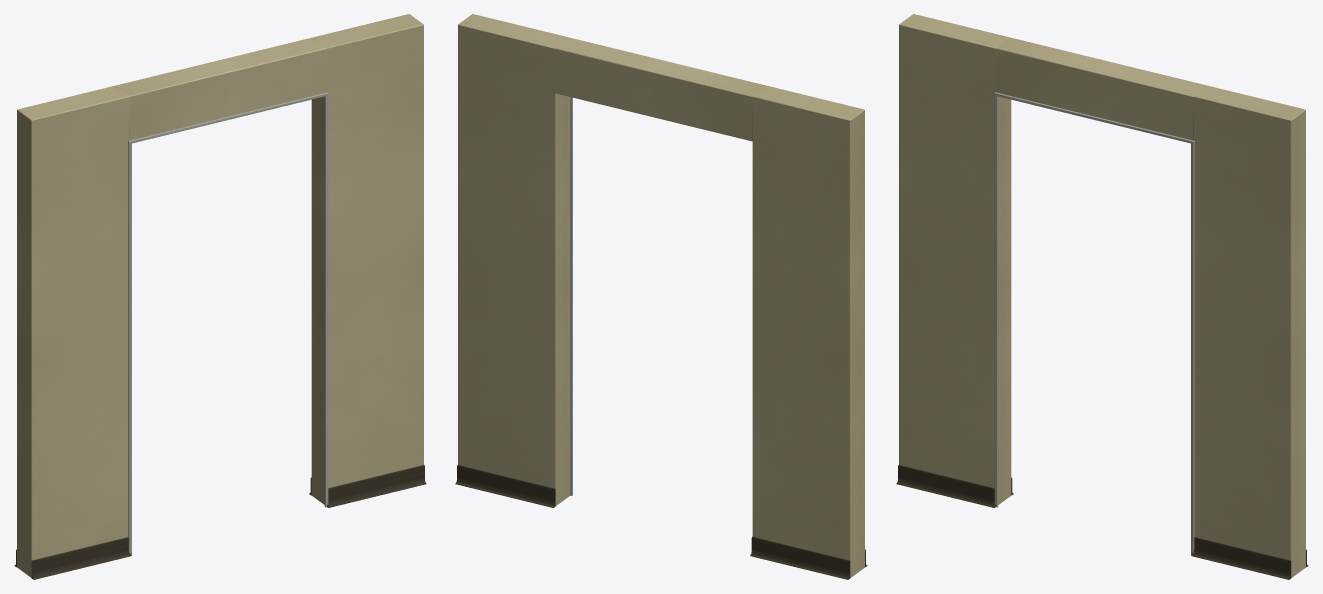
File: wall_portal_244.gltf
3 renders of one model, left to right at view 1: azimuth 30°, elevation 25°; view 2: azimuth 150°, elevation 25°; view 3: azimuth 330°, elevation 25°, orthographic.
Visible parts, largest first — view 1: wall_portal_244; view 2: wall_portal_244; view 3: wall_portal_244.
Part boxes in pixels (x1,y1,x2,y2): wall_portal_244: (14, 14, 426, 579); wall_portal_244: (455, 14, 867, 579); wall_portal_244: (896, 14, 1308, 579).
Bounding box in the file's own units: 2.44 × 2.72 × 0.208.
3 materials, 3 textured.
